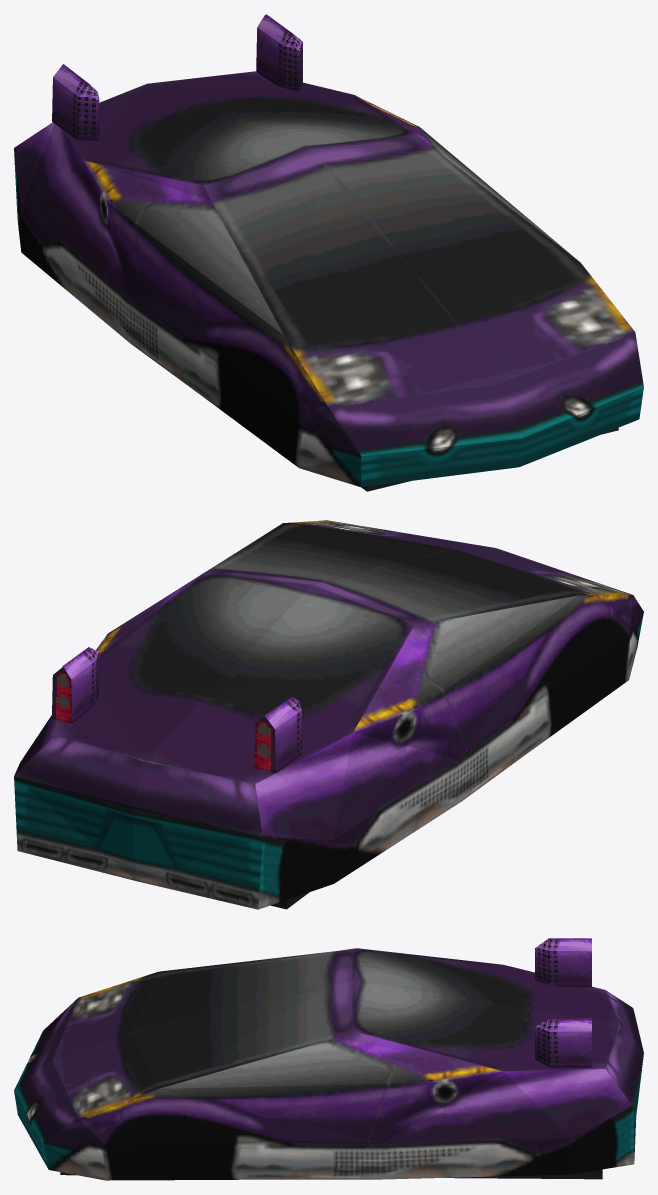
The model's file is warrior.glb.
3 renders of one model, top to bottom at view 1: azimuth 30°, elevation 25°; view 2: azimuth 150°, elevation 25°; view 3: azimuth 270°, elevation 25°, orthographic. The views are drawn at different scales.
Parts seen in each view (by area): view 1: topp, side, frnt, abox, fx__smok__abox; view 2: topp, side, rear, abox, lite; view 3: side, topp, abox, frnt, rear, bott.
Part boxes in pixels (box(x1,y1,x2,y2)): topp: box(63, 71, 634, 406); side: box(14, 95, 576, 486); frnt: box(328, 332, 643, 487); abox: box(52, 14, 302, 140); fx__smok__abox: box(284, 46, 299, 91); topp: box(56, 520, 632, 783); side: box(14, 542, 643, 909); rear: box(14, 735, 262, 909); abox: box(62, 647, 301, 772); lite: box(52, 667, 275, 773); side: box(43, 1032, 634, 1180); topp: box(52, 948, 619, 1118); abox: box(535, 938, 591, 1067); frnt: box(14, 998, 78, 1169); rear: box(605, 990, 643, 1160); bott: box(60, 1169, 602, 1179).
Bounding box in the file's own units: 2.52 × 1.33 × 5.11.
7 materials, 7 textured.
